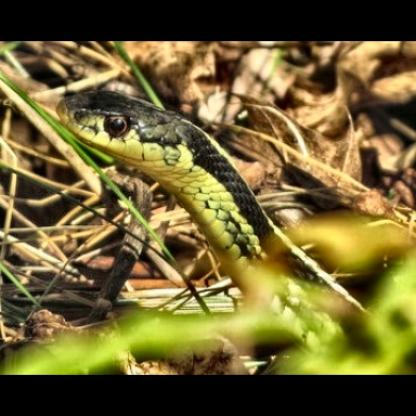Snake: (58, 84, 412, 374)
